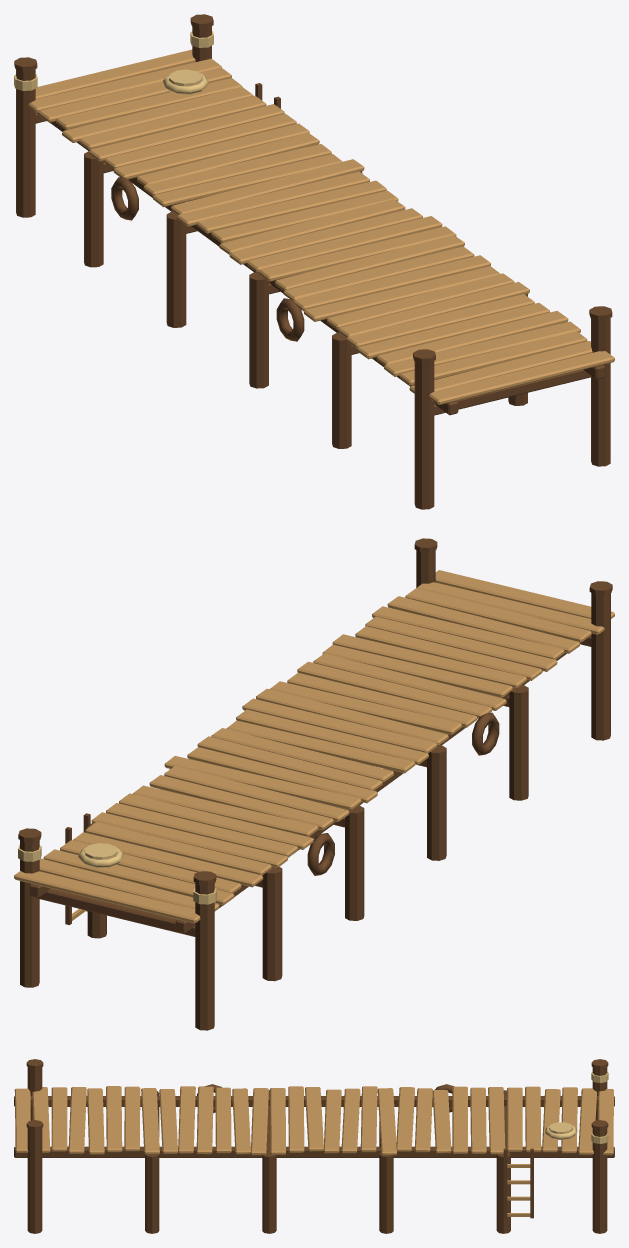
File: dermaga.glb
The picture shows the model from 3 angles, top to bottom: view 1: azimuth 30°, elevation 25°; view 2: azimuth 150°, elevation 25°; view 3: azimuth 270°, elevation 25°; orthographic projection. The views are drawn at different scales.
Parts seen in each view (by area): view 1: dermaga_mesh; view 2: dermaga_mesh; view 3: dermaga_mesh.
Part boxes in pixels (box(x1,y1,x2,y2)): dermaga_mesh: box(14, 14, 614, 509); dermaga_mesh: box(14, 538, 614, 1030); dermaga_mesh: box(14, 1059, 614, 1233).
Bounding box in the file's own units: 2.74 × 1.97 × 10.
